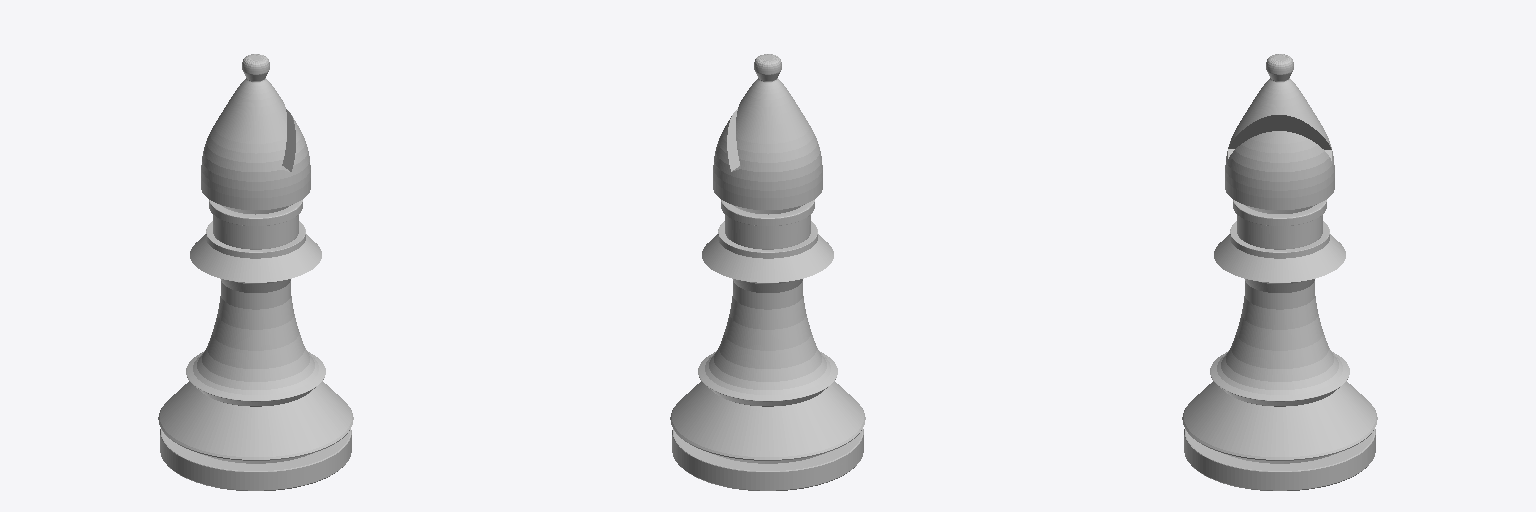
Rendered from bishop.obj.
3 renders of one model, left to right at view 1: azimuth 30°, elevation 25°; view 2: azimuth 150°, elevation 25°; view 3: azimuth 270°, elevation 25°, orthographic.
Parts seen in each view (by area): view 1: Cylinder; view 2: Cylinder; view 3: Cylinder.
Part boxes in pixels (x1,y1,x2,y2): Cylinder: (158, 54, 353, 490); Cylinder: (670, 54, 865, 490); Cylinder: (1182, 54, 1377, 490).
Size of the model in its own units: 2.03 by 4.54 by 2.03.